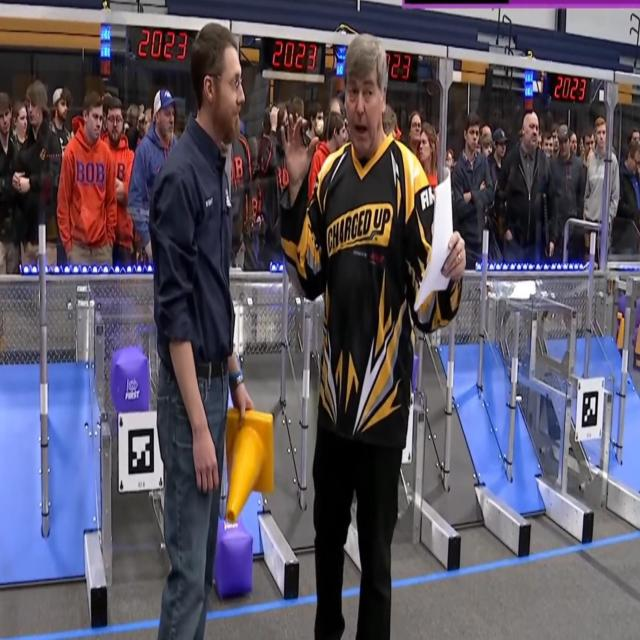frc_cone: (222, 408, 272, 524), (616, 314, 626, 350), (634, 328, 640, 370)
frc_cube: (212, 523, 252, 596), (111, 347, 147, 413), (617, 294, 628, 314)
